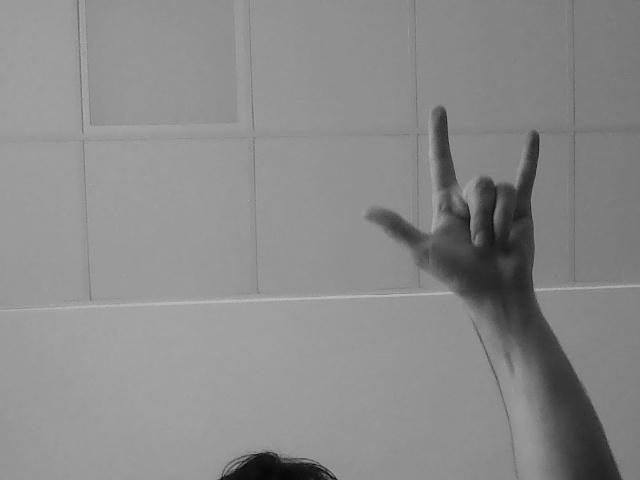I_Love_You: (362, 86, 570, 320)
